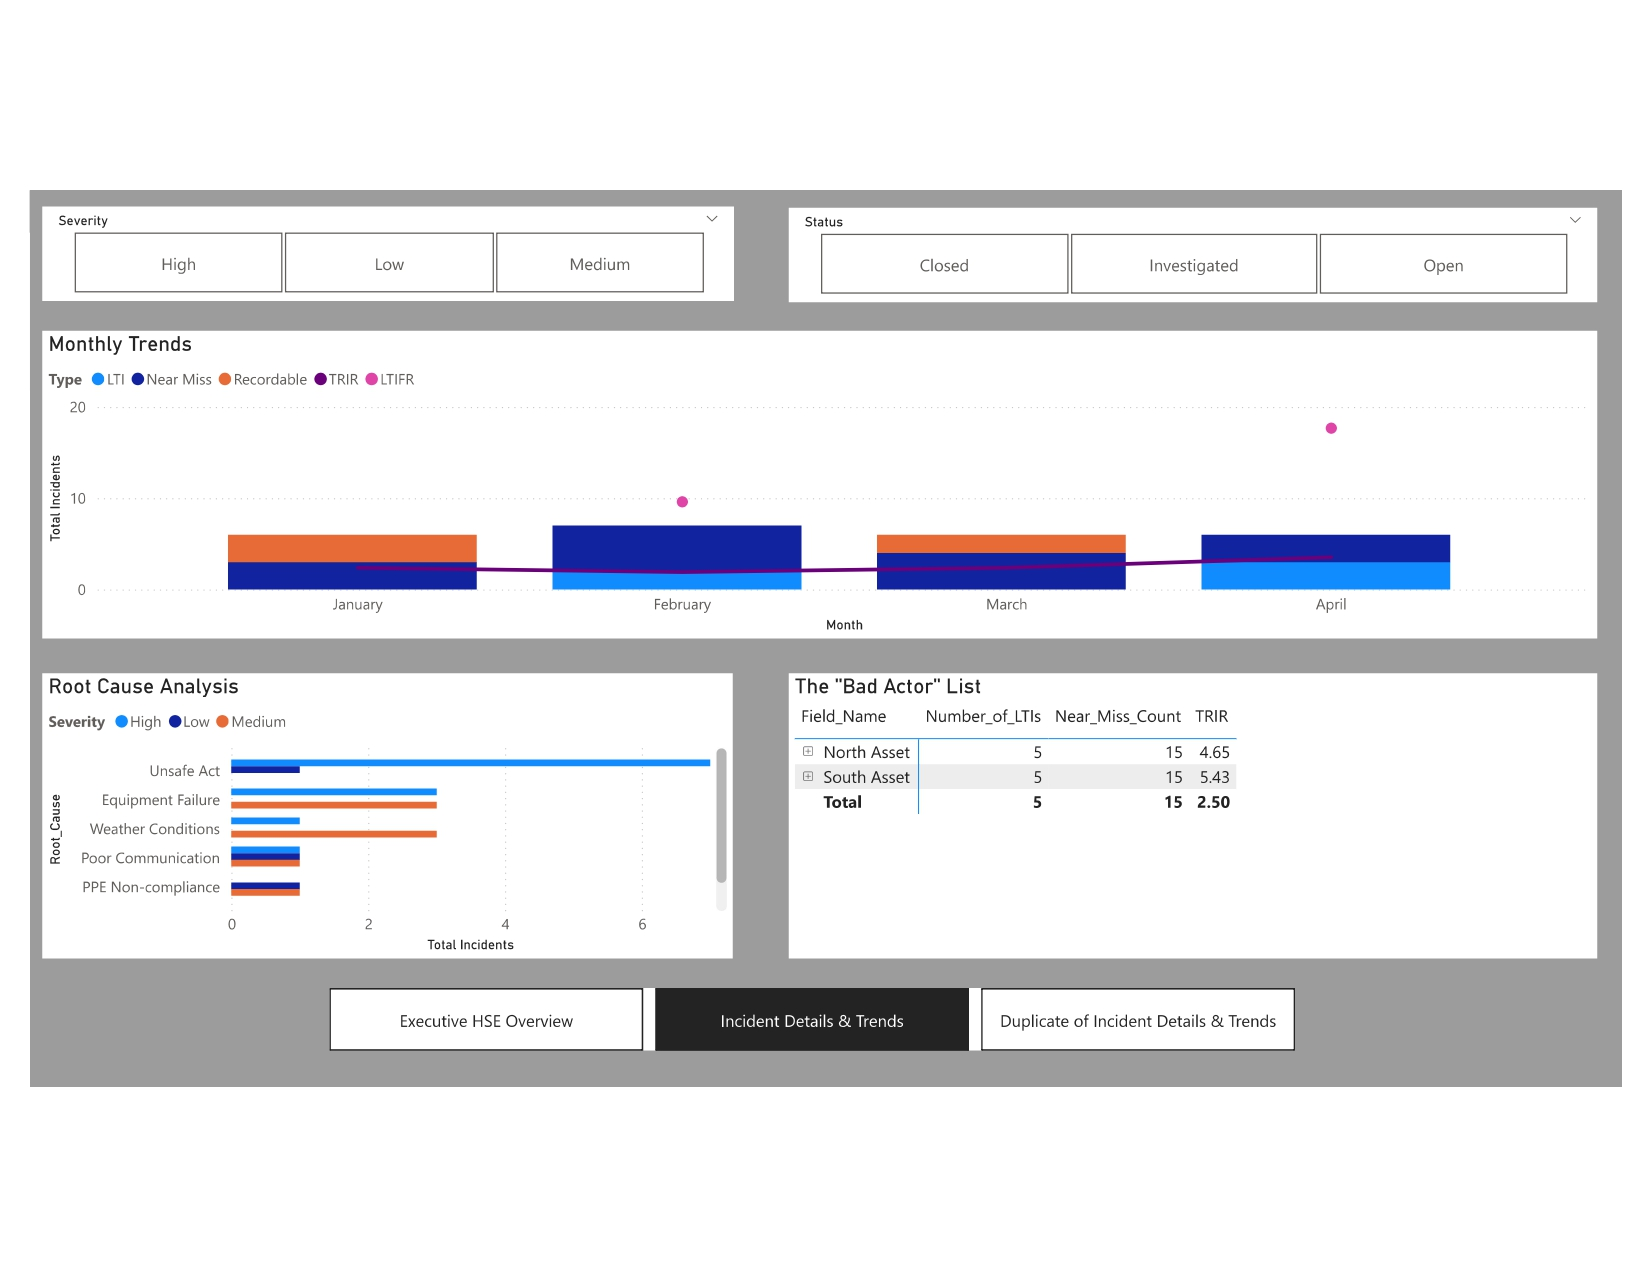

Layout of this report page (visuals, bound fields, positions):
{"tool":"powerbi","page":{"name":"Incident Details & Trends","canvas":[1280,720],"ordinal":1},"visuals":[{"type":"slicer","fields":{"Values":["Fact_Incidents.Severity"]},"box":[10,12.9,555.7,75.7],"z":0},{"type":"slicer","fields":{"Values":["Fact_Incidents.Status"]},"box":[610,14.3,650,75.7],"z":1000},{"type":"lineStackedColumnComboChart","title":"Monthly Trends","fields":{"Category":["Dim_Date.Date.Variation.Date Hierarchy.Month"],"Series":["Fact_Incidents.Type"],"Y":["Dim_Date.Total Incidents"],"Y2":["Dim_Date.TRIR","Dim_Date.LTIFR"]},"box":[10,113.3,1250,246.7],"z":3000},{"type":"clusteredBarChart","title":"Root Cause Analysis","fields":{"Category":["Fact_Incidents.Root_Cause"],"Series":["Fact_Incidents.Severity"],"Y":["Dim_Date.Total Incidents"]},"box":[10,388.3,555,228.3],"z":4000},{"type":"pivotTable","title":"The \"Bad Actor\" List","fields":{"Rows":["Fact_Exposure.Field_Name","Fact_Incidents.Department"],"Values":["Dim_Date.Number_of_LTIs","Dim_Date.Near_Miss_Count","Dim_Date.TRIR"]},"box":[610,388.3,650,228.3],"z":5000},{"type":"pageNavigator","box":[241.4,641.4,775.7,50],"z":5001}]}

Visuals, with their boxes in screenshot pixels (x1, y1, x2, y2):
slicer - Fact_Incidents.Severity: [26, 193, 732, 289]
slicer - Fact_Incidents.Status: [788, 194, 1615, 291]
"Monthly Trends" lineStackedColumnComboChart: [26, 320, 1615, 634]
"Root Cause Analysis" clusteredBarChart: [26, 670, 731, 960]
"The "Bad Actor" List" pivotTable: [788, 670, 1615, 960]
pageNavigator: [320, 992, 1306, 1055]
